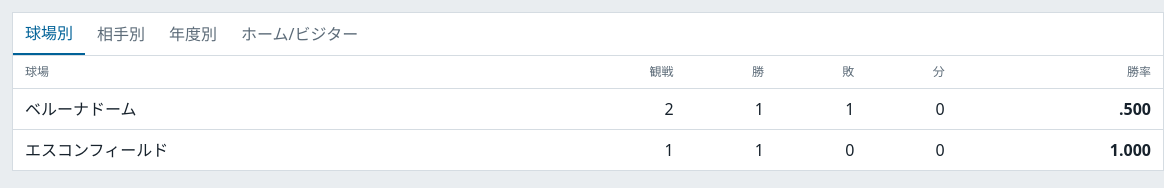
CrossStats › ホーム/ビジタータブは日本語ラベルで表示する
Click the tab "ホーム/ビジター".
click(300, 34)  # box [229,13,370,55]
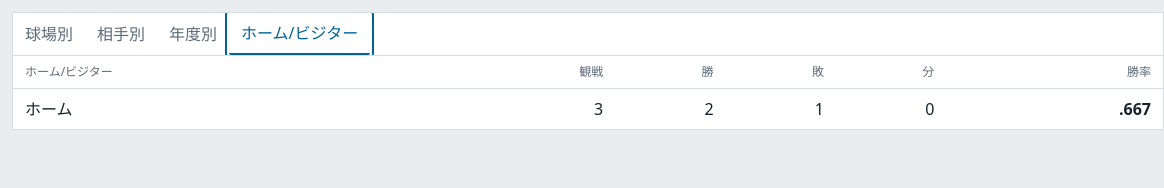
Expected: the column heading "ホーム" is shown, [13,88,454,129]
